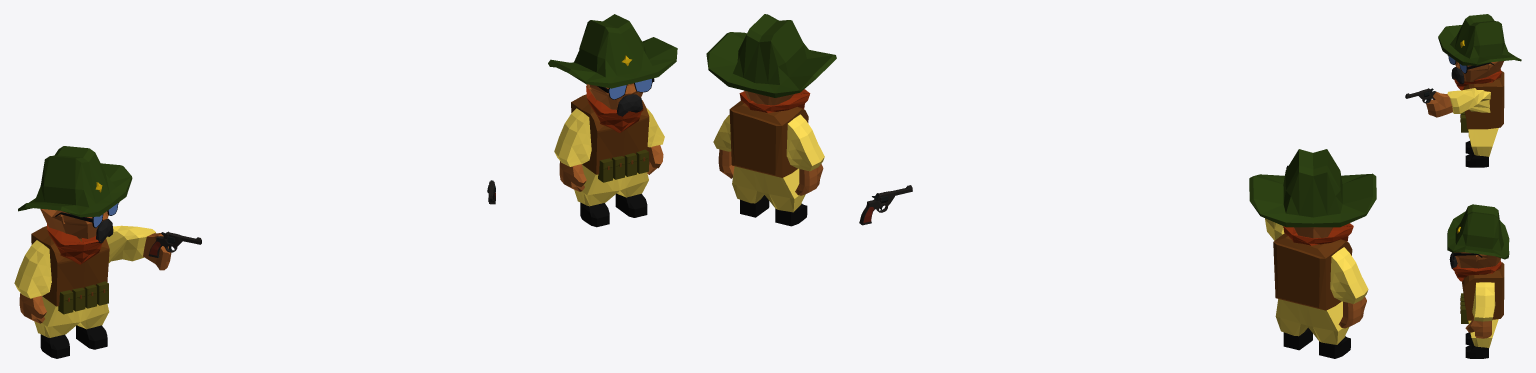
The model's file is Low_poly_guard.obj.
3 views of the same model, side by side, from view 1: azimuth 30°, elevation 25°; view 2: azimuth 150°, elevation 25°; view 3: azimuth 270°, elevation 25° (orthographic). The views are drawn at different scales.
Visible parts, largest first — view 1: Cube.1034_Cube.3981, Cube.000; view 2: Cube.000, Cube.1034_Cube.3981, Cube.001; view 3: Cube.1034_Cube.3981, Cube.000.
Boxes of the visible parts, box(x1,y1,x2,y2) form: Cube.1034_Cube.3981: box(14, 146, 201, 358); Cube.000: box(548, 14, 677, 227); Cube.000: box(706, 14, 836, 226); Cube.1034_Cube.3981: box(1249, 149, 1376, 358); Cube.001: box(859, 185, 912, 225); Cube.1034_Cube.3981: box(1405, 14, 1521, 167); Cube.000: box(1447, 204, 1509, 358).
Size of the model in its own units: 3.07 by 0.8742 by 0.6558.
